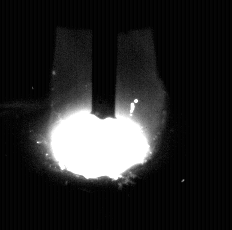arame: (92, 0, 117, 120)
poca: (48, 0, 161, 230)
